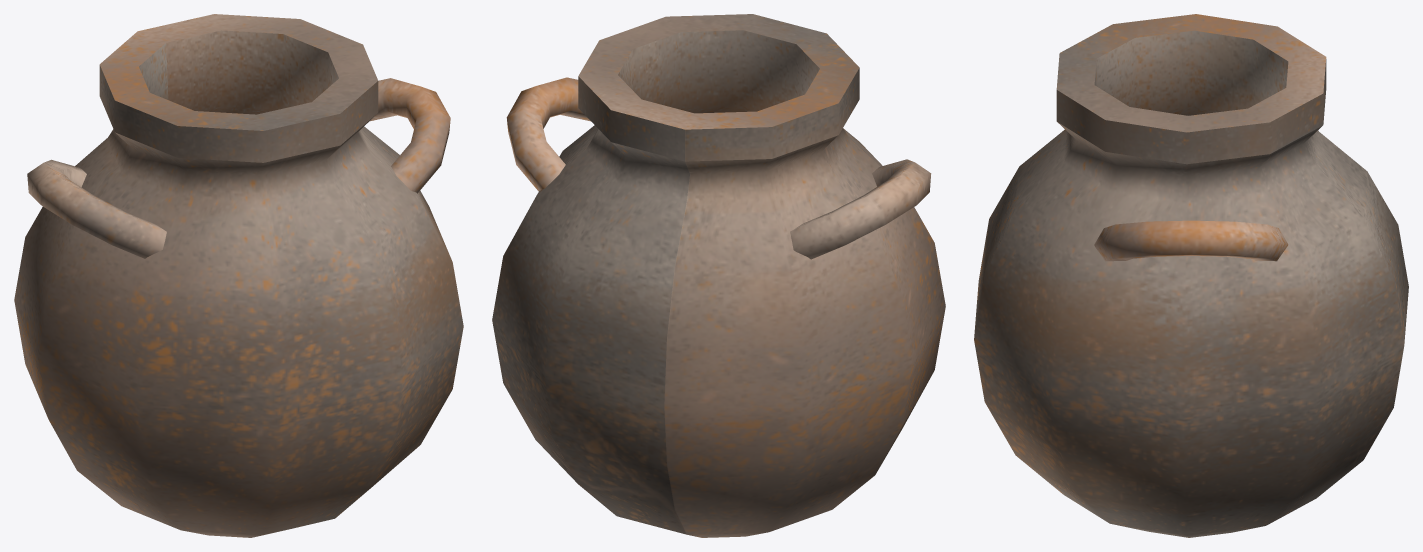
The model's file is PotSmall.fbx.
The picture shows the model from 3 angles, left to right: view 1: azimuth 30°, elevation 25°; view 2: azimuth 150°, elevation 25°; view 3: azimuth 270°, elevation 25°; orthographic projection.
Visible parts, largest first — view 1: Small; view 2: Small; view 3: Small.
Boxes of the visible parts, left/top/right/bottom form: Small: left=14, top=14, right=463, bottom=537; Small: left=492, top=14, right=945, bottom=537; Small: left=974, top=14, right=1408, bottom=537.
Size of the model in its own units: 1.17 by 1.23 by 1.12.
